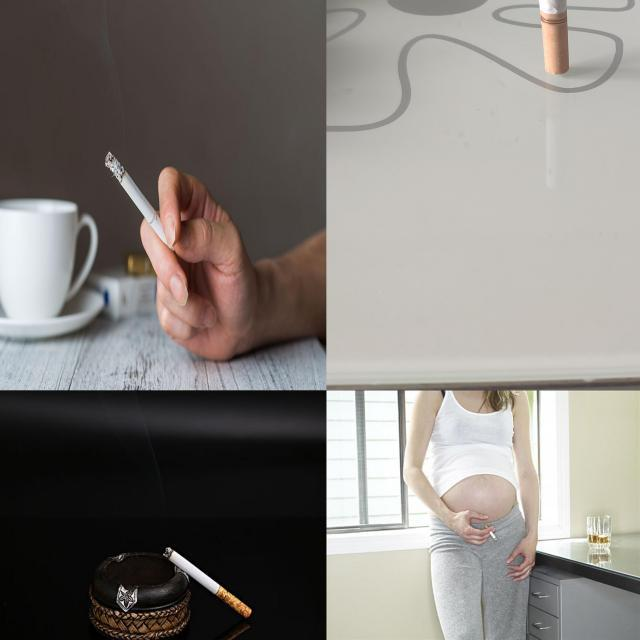cigarette: (103, 148, 176, 255), (162, 544, 253, 624), (527, 0, 572, 75), (482, 523, 498, 543)
